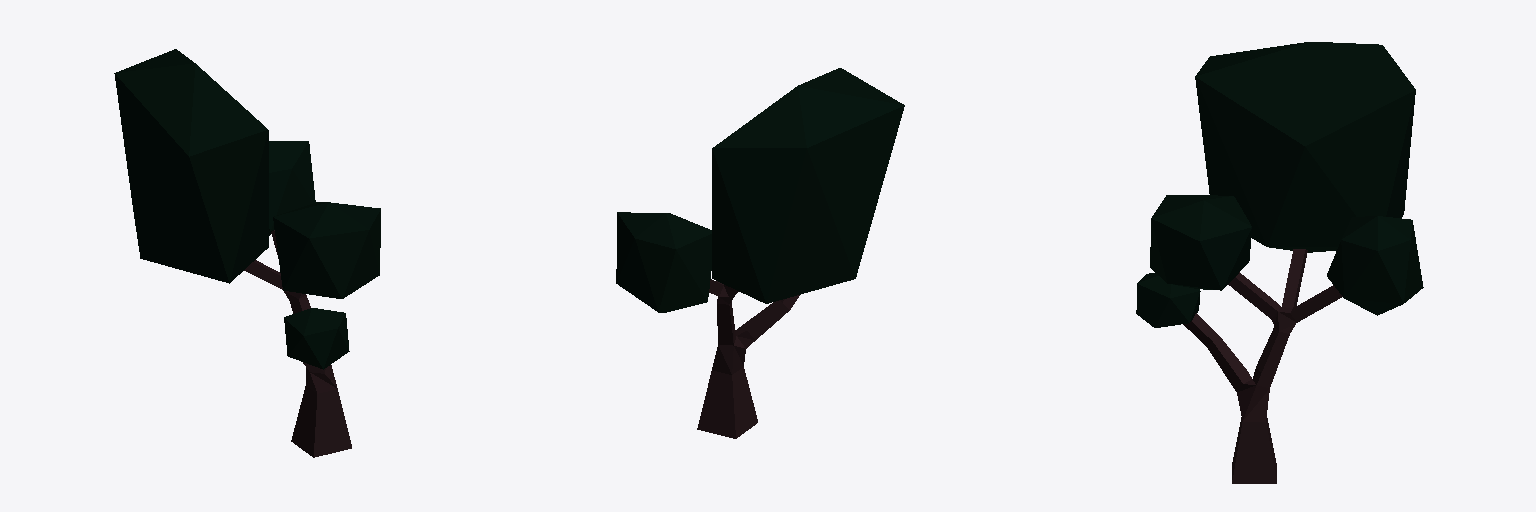
File: dtree2A(F274).obj
3 views of the same model, side by side, from view 1: azimuth 30°, elevation 25°; view 2: azimuth 150°, elevation 25°; view 3: azimuth 270°, elevation 25° (orthographic).
Parts seen in each view (by area): view 1: Icosphere.073, Icosphere.074, Cube.018, Icosphere.071, Icosphere.072; view 2: Icosphere.073, Icosphere.072, Cube.018; view 3: Icosphere.073, Cube.018, Icosphere.074, Icosphere.072, Icosphere.071.
Boxes of the visible parts, x1,y1,x2,y2 form: Icosphere.073: [114, 49, 268, 283]; Icosphere.074: [273, 202, 380, 298]; Cube.018: [244, 230, 351, 457]; Icosphere.071: [284, 308, 349, 369]; Icosphere.072: [269, 141, 315, 235]; Icosphere.073: [712, 68, 904, 303]; Icosphere.072: [616, 212, 711, 312]; Cube.018: [697, 279, 799, 438]; Icosphere.073: [1195, 42, 1415, 252]; Cube.018: [1183, 249, 1342, 483]; Icosphere.074: [1150, 195, 1251, 290]; Icosphere.072: [1327, 216, 1423, 315]; Icosphere.071: [1136, 273, 1200, 327].
Bounding box in the file's own units: 1.37 × 2.48 × 1.67.